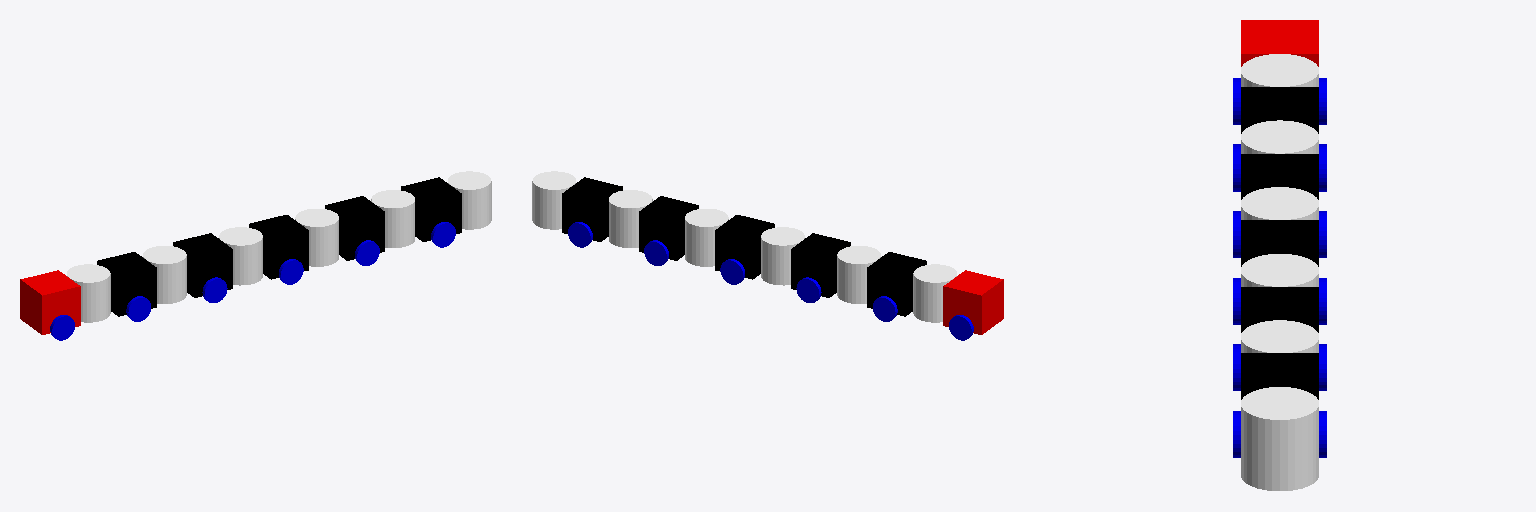
robot.urdf — my_robot:
<?xml version="1.0" ?>
<robot name="my_robot">

    <!-- ===================== SEGMENT 0 (head) ===================== -->
    <link name="servo_link0">
        <visual>
            <geometry><box size="0.1 0.1 0.1"/></geometry>
            <material name="red"><color rgba="1 0 0 1"/></material>
        </visual>
        <collision><geometry><box size="0.1 0.1 0.1"/></geometry></collision>
        <inertial>
            <mass value="0.3"/>
            <origin xyz="0 0 0"/>
            <inertia ixx="0.0005" ixy="0.0" ixz="0.0" iyy="0.0005" iyz="0.0" izz="0.0005"/>
        </inertial>
    </link>

    <joint name="servo_wheel_l0" type="continuous">
        <parent link="servo_link0"/>
        <child link="wheel_l0"/>
        <origin xyz="0 0.055 -0.04" rpy="-1.57 0 0"/>
        <axis xyz="0 0 1"/>
    </joint>
    <link name="wheel_l0">
        <visual>
            <geometry><cylinder radius="0.03" length="0.01"/></geometry>
            <material name="blue"><color rgba="0 0 1 1"/></material>
        </visual>
        <collision><geometry><cylinder radius="0.03" length="0.01"/></geometry></collision>
        <inertial>
            <mass value="0.01"/>
            <origin xyz="0 0 0"/>
            <inertia ixx="2.33e-06" ixy="0.0" ixz="0.0" iyy="2.33e-06" iyz="0.0" izz="4.5e-06"/>
        </inertial>
    </link>

    <joint name="servo_wheel_r0" type="continuous">
        <parent link="servo_link0"/>
        <child link="wheel_r0"/>
        <origin xyz="0 -0.055 -0.04" rpy="1.57 0 0"/>
        <axis xyz="0 0 1"/>
    </joint>
    <link name="wheel_r0">
        <visual>
            <geometry><cylinder radius="0.03" length="0.01"/></geometry>
            <material name="blue"><color rgba="0 0 1 1"/></material>
        </visual>
        <collision><geometry><cylinder radius="0.03" length="0.01"/></geometry></collision>
        <inertial>
            <mass value="0.01"/>
            <origin xyz="0 0 0"/>
            <inertia ixx="2.33e-06" ixy="0.0" ixz="0.0" iyy="2.33e-06" iyz="0.0" izz="4.5e-06"/>
        </inertial>
    </link>

    <!-- Joint 0: S0 → gear0 (revolute) -->
    <joint name="servo_joint0" type="revolute">
        <parent link="servo_link0"/>
        <child link="gear_link0"/>
        <origin xyz="0.1 0 0"/>
        <axis xyz="0 0 1"/>
        <limit lower="-1.57" upper="1.57"/>
    </joint>
    <link name="gear_link0">
        <visual>
            <geometry><cylinder radius="0.05" length="0.1"/></geometry>
            <material name="white"><color rgba="1 1 1 1"/></material>
        </visual>
        <collision><geometry><cylinder radius="0.05" length="0.1"/></geometry></collision>
        <inertial>
            <mass value="0.005"/>
            <origin xyz="0 0 0"/>
            <inertia ixx="7.29e-06" ixy="0.0" ixz="0.0" iyy="7.29e-06" iyz="0.0" izz="6.25e-06"/>
        </inertial>
    </link>

    <!-- Fixed: gear0 → S1 -->
    <joint name="gear_joint0" type="fixed">
        <parent link="gear_link0"/>
        <child link="servo_link1"/>
        <origin xyz="0.1 0 0"/>
    </joint>

    <!-- ===================== SEGMENT 1 ===================== -->
    <link name="servo_link1">
        <visual>
            <geometry><box size="0.1 0.1 0.1"/></geometry>
            <material name="black"><color rgba="0 0 0 1"/></material>
        </visual>
        <collision><geometry><box size="0.1 0.1 0.1"/></geometry></collision>
        <inertial>
            <mass value="0.3"/>
            <origin xyz="0 0 0"/>
            <inertia ixx="0.0005" ixy="0.0" ixz="0.0" iyy="0.0005" iyz="0.0" izz="0.0005"/>
        </inertial>
    </link>

    <joint name="servo_wheel_l1" type="continuous">
        <parent link="servo_link1"/>
        <child link="wheel_l1"/>
        <origin xyz="0 0.055 -0.04" rpy="-1.57 0 0"/>
        <axis xyz="0 0 1"/>
    </joint>
    <link name="wheel_l1">
        <visual>
            <geometry><cylinder radius="0.03" length="0.01"/></geometry>
            <material name="blue"><color rgba="0 0 1 1"/></material>
        </visual>
        <collision><geometry><cylinder radius="0.03" length="0.01"/></geometry></collision>
        <inertial>
            <mass value="0.01"/>
            <origin xyz="0 0 0"/>
            <inertia ixx="2.33e-06" ixy="0.0" ixz="0.0" iyy="2.33e-06" iyz="0.0" izz="4.5e-06"/>
        </inertial>
    </link>

    <joint name="servo_wheel_r1" type="continuous">
        <parent link="servo_link1"/>
        <child link="wheel_r1"/>
        <origin xyz="0 -0.055 -0.04" rpy="1.57 0 0"/>
        <axis xyz="0 0 1"/>
    </joint>
    <link name="wheel_r1">
        <visual>
            <geometry><cylinder radius="0.03" length="0.01"/></geometry>
            <material name="blue"><color rgba="0 0 1 1"/></material>
        </visual>
        <collision><geometry><cylinder radius="0.03" length="0.01"/></geometry></collision>
        <inertial>
            <mass value="0.01"/>
            <origin xyz="0 0 0"/>
            <inertia ixx="2.33e-06" ixy="0.0" ixz="0.0" iyy="2.33e-06" iyz="0.0" izz="4.5e-06"/>
        </inertial>
    </link>

    <!-- Joint 1: S1 → gear1 (revolute) -->
    <joint name="servo_joint1" type="revolute">
        <parent link="servo_link1"/>
        <child link="gear_link1"/>
        <origin xyz="0.1 0 0"/>
        <axis xyz="0 0 1"/>
        <limit lower="-3.14" upper="3.14"/>
    </joint>
    <link name="gear_link1">
        <visual>
            <geometry><cylinder radius="0.05" length="0.1"/></geometry>
            <material name="white"><color rgba="1 1 1 1"/></material>
        </visual>
        <collision><geometry><cylinder radius="0.05" length="0.1"/></geometry></collision>
        <inertial>
            <mass value="0.005"/>
            <origin xyz="0 0 0"/>
            <inertia ixx="7.29e-06" ixy="0.0" ixz="0.0" iyy="7.29e-06" iyz="0.0" izz="6.25e-06"/>
        </inertial>
    </link>

    <!-- Fixed: gear1 → S2 -->
    <joint name="gear_joint1" type="fixed">
        <parent link="gear_link1"/>
        <child link="servo_link2"/>
        <origin xyz="0.1 0 0"/>
    </joint>

    <!-- ===================== SEGMENT 2 ===================== -->
    <link name="servo_link2">
        <visual>
            <geometry><box size="0.1 0.1 0.1"/></geometry>
            <material name="black"><color rgba="0 0 0 1"/></material>
        </visual>
        <collision><geometry><box size="0.1 0.1 0.1"/></geometry></collision>
        <inertial>
            <mass value="0.3"/>
            <origin xyz="0 0 0"/>
            <inertia ixx="0.0005" ixy="0.0" ixz="0.0" iyy="0.0005" iyz="0.0" izz="0.0005"/>
        </inertial>
    </link>

    <joint name="servo_wheel_l2" type="continuous">
        <parent link="servo_link2"/>
        <child link="wheel_l2"/>
        <origin xyz="0 0.055 -0.04" rpy="-1.57 0 0"/>
        <axis xyz="0 0 1"/>
    </joint>
    <link name="wheel_l2">
        <visual>
            <geometry><cylinder radius="0.03" length="0.01"/></geometry>
            <material name="blue"><color rgba="0 0 1 1"/></material>
        </visual>
        <collision><geometry><cylinder radius="0.03" length="0.01"/></geometry></collision>
        <inertial>
            <mass value="0.01"/>
            <origin xyz="0 0 0"/>
            <inertia ixx="2.33e-06" ixy="0.0" ixz="0.0" iyy="2.33e-06" iyz="0.0" izz="4.5e-06"/>
        </inertial>
    </link>

    <joint name="servo_wheel_r2" type="continuous">
        <parent link="servo_link2"/>
        <child link="wheel_r2"/>
        <origin xyz="0 -0.055 -0.04" rpy="1.57 0 0"/>
        <axis xyz="0 0 1"/>
    </joint>
    <link name="wheel_r2">
        <visual>
            <geometry><cylinder radius="0.03" length="0.01"/></geometry>
            <material name="blue"><color rgba="0 0 1 1"/></material>
        </visual>
        <collision><geometry><cylinder radius="0.03" length="0.01"/></geometry></collision>
        <inertial>
            <mass value="0.01"/>
            <origin xyz="0 0 0"/>
            <inertia ixx="2.33e-06" ixy="0.0" ixz="0.0" iyy="2.33e-06" iyz="0.0" izz="4.5e-06"/>
        </inertial>
    </link>

    <!-- Joint 2: S2 → gear2 (revolute) -->
    <joint name="servo_joint2" type="revolute">
        <parent link="servo_link2"/>
        <child link="gear_link2"/>
        <origin xyz="0.1 0 0"/>
        <axis xyz="0 0 1"/>
        <limit lower="-3.14" upper="3.14"/>
    </joint>
    <link name="gear_link2">
        <visual>
            <geometry><cylinder radius="0.05" length="0.1"/></geometry>
            <material name="white"><color rgba="1 1 1 1"/></material>
        </visual>
        <collision><geometry><cylinder radius="0.05" length="0.1"/></geometry></collision>
        <inertial>
            <mass value="0.005"/>
            <origin xyz="0 0 0"/>
            <inertia ixx="7.29e-06" ixy="0.0" ixz="0.0" iyy="7.29e-06" iyz="0.0" izz="6.25e-06"/>
        </inertial>
    </link>

    <!-- Fixed: gear2 → S3 -->
    <joint name="gear_joint2" type="fixed">
        <parent link="gear_link2"/>
        <child link="servo_link3"/>
        <origin xyz="0.1 0 0"/>
    </joint>

    <!-- ===================== SEGMENT 3 ===================== -->
    <link name="servo_link3">
        <visual>
            <geometry><box size="0.1 0.1 0.1"/></geometry>
            <material name="black"><color rgba="0 0 0 1"/></material>
        </visual>
        <collision><geometry><box size="0.1 0.1 0.1"/></geometry></collision>
        <inertial>
            <mass value="0.3"/>
            <origin xyz="0 0 0"/>
            <inertia ixx="0.0005" ixy="0.0" ixz="0.0" iyy="0.0005" iyz="0.0" izz="0.0005"/>
        </inertial>
    </link>

    <joint name="servo_wheel_l3" type="continuous">
        <parent link="servo_link3"/>
        <child link="wheel_l3"/>
        <origin xyz="0 0.055 -0.04" rpy="-1.57 0 0"/>
        <axis xyz="0 0 1"/>
    </joint>
    <link name="wheel_l3">
        <visual>
            <geometry><cylinder radius="0.03" length="0.01"/></geometry>
            <material name="blue"><color rgba="0 0 1 1"/></material>
        </visual>
        <collision><geometry><cylinder radius="0.03" length="0.01"/></geometry></collision>
        <inertial>
            <mass value="0.01"/>
            <origin xyz="0 0 0"/>
            <inertia ixx="2.33e-06" ixy="0.0" ixz="0.0" iyy="2.33e-06" iyz="0.0" izz="4.5e-06"/>
        </inertial>
    </link>

    <joint name="servo_wheel_r3" type="continuous">
        <parent link="servo_link3"/>
        <child link="wheel_r3"/>
        <origin xyz="0 -0.055 -0.04" rpy="1.57 0 0"/>
        <axis xyz="0 0 1"/>
    </joint>
    <link name="wheel_r3">
        <visual>
            <geometry><cylinder radius="0.03" length="0.01"/></geometry>
            <material name="blue"><color rgba="0 0 1 1"/></material>
        </visual>
        <collision><geometry><cylinder radius="0.03" length="0.01"/></geometry></collision>
        <inertial>
            <mass value="0.01"/>
            <origin xyz="0 0 0"/>
            <inertia ixx="2.33e-06" ixy="0.0" ixz="0.0" iyy="2.33e-06" iyz="0.0" izz="4.5e-06"/>
        </inertial>
    </link>

    <!-- Joint 3: S3 → gear3 (revolute) -->
    <joint name="servo_joint3" type="revolute">
        <parent link="servo_link3"/>
        <child link="gear_link3"/>
        <origin xyz="0.1 0 0"/>
        <axis xyz="0 0 1"/>
        <limit lower="-3.14" upper="3.14"/>
    </joint>
    <link name="gear_link3">
        <visual>
            <geometry><cylinder radius="0.05" length="0.1"/></geometry>
            <material name="white"><color rgba="1 1 1 1"/></material>
        </visual>
        <collision><geometry><cylinder radius="0.05" length="0.1"/></geometry></collision>
        <inertial>
            <mass value="0.005"/>
            <origin xyz="0 0 0"/>
            <inertia ixx="7.29e-06" ixy="0.0" ixz="0.0" iyy="7.29e-06" iyz="0.0" izz="6.25e-06"/>
        </inertial>
    </link>

    <!-- Fixed: gear3 → S4 -->
    <joint name="gear_joint3" type="fixed">
        <parent link="gear_link3"/>
        <child link="servo_link4"/>
        <origin xyz="0.1 0 0"/>
    </joint>

    <!-- ===================== SEGMENT 4 ===================== -->
    <link name="servo_link4">
        <visual>
            <geometry><box size="0.1 0.1 0.1"/></geometry>
            <material name="black"><color rgba="0 0 0 1"/></material>
        </visual>
        <collision><geometry><box size="0.1 0.1 0.1"/></geometry></collision>
        <inertial>
            <mass value="0.3"/>
            <origin xyz="0 0 0"/>
            <inertia ixx="0.0005" ixy="0.0" ixz="0.0" iyy="0.0005" iyz="0.0" izz="0.0005"/>
        </inertial>
    </link>

    <joint name="servo_wheel_l4" type="continuous">
        <parent link="servo_link4"/>
        <child link="wheel_l4"/>
        <origin xyz="0 0.055 -0.04" rpy="-1.57 0 0"/>
        <axis xyz="0 0 1"/>
    </joint>
    <link name="wheel_l4">
        <visual>
            <geometry><cylinder radius="0.03" length="0.01"/></geometry>
            <material name="blue"><color rgba="0 0 1 1"/></material>
        </visual>
        <collision><geometry><cylinder radius="0.03" length="0.01"/></geometry></collision>
        <inertial>
            <mass value="0.01"/>
            <origin xyz="0 0 0"/>
            <inertia ixx="2.33e-06" ixy="0.0" ixz="0.0" iyy="2.33e-06" iyz="0.0" izz="4.5e-06"/>
        </inertial>
    </link>

    <joint name="servo_wheel_r4" type="continuous">
        <parent link="servo_link4"/>
        <child link="wheel_r4"/>
        <origin xyz="0 -0.055 -0.04" rpy="1.57 0 0"/>
        <axis xyz="0 0 1"/>
    </joint>
    <link name="wheel_r4">
        <visual>
            <geometry><cylinder radius="0.03" length="0.01"/></geometry>
            <material name="blue"><color rgba="0 0 1 1"/></material>
        </visual>
        <collision><geometry><cylinder radius="0.03" length="0.01"/></geometry></collision>
        <inertial>
            <mass value="0.01"/>
            <origin xyz="0 0 0"/>
            <inertia ixx="2.33e-06" ixy="0.0" ixz="0.0" iyy="2.33e-06" iyz="0.0" izz="4.5e-06"/>
        </inertial>
    </link>

    <!-- Joint 4: S4 → gear4 (revolute) -->
    <joint name="servo_joint4" type="revolute">
        <parent link="servo_link4"/>
        <child link="gear_link4"/>
        <origin xyz="0.1 0 0"/>
        <axis xyz="0 0 1"/>
        <limit lower="-3.14" upper="3.14"/>
    </joint>
    <link name="gear_link4">
        <visual>
            <geometry><cylinder radius="0.05" length="0.1"/></geometry>
            <material name="white"><color rgba="1 1 1 1"/></material>
        </visual>
        <collision><geometry><cylinder radius="0.05" length="0.1"/></geometry></collision>
        <inertial>
            <mass value="0.005"/>
            <origin xyz="0 0 0"/>
            <inertia ixx="7.29e-06" ixy="0.0" ixz="0.0" iyy="7.29e-06" iyz="0.0" izz="6.25e-06"/>
        </inertial>
    </link>

    <!-- Fixed: gear4 → S5 -->
    <joint name="gear_joint4" type="fixed">
        <parent link="gear_link4"/>
        <child link="servo_link5"/>
        <origin xyz="0.1 0 0"/>
    </joint>

    <!-- ===================== SEGMENT 5 (tail) ===================== -->
    <link name="servo_link5">
        <visual>
            <geometry><box size="0.1 0.1 0.1"/></geometry>
            <material name="black"><color rgba="0 0 0 1"/></material>
        </visual>
        <collision><geometry><box size="0.1 0.1 0.1"/></geometry></collision>
        <inertial>
            <mass value="0.3"/>
            <origin xyz="0 0 0"/>
            <inertia ixx="0.0005" ixy="0.0" ixz="0.0" iyy="0.0005" iyz="0.0" izz="0.0005"/>
        </inertial>
    </link>

    <joint name="servo_wheel_l5" type="continuous">
        <parent link="servo_link5"/>
        <child link="wheel_l5"/>
        <origin xyz="0 0.055 -0.04" rpy="-1.57 0 0"/>
        <axis xyz="0 0 1"/>
    </joint>
    <link name="wheel_l5">
        <visual>
            <geometry><cylinder radius="0.03" length="0.01"/></geometry>
            <material name="blue"><color rgba="0 0 1 1"/></material>
        </visual>
        <collision><geometry><cylinder radius="0.03" length="0.01"/></geometry></collision>
        <inertial>
            <mass value="0.01"/>
            <origin xyz="0 0 0"/>
            <inertia ixx="2.33e-06" ixy="0.0" ixz="0.0" iyy="2.33e-06" iyz="0.0" izz="4.5e-06"/>
        </inertial>
    </link>

    <joint name="servo_wheel_r5" type="continuous">
        <parent link="servo_link5"/>
        <child link="wheel_r5"/>
        <origin xyz="0 -0.055 -0.04" rpy="1.57 0 0"/>
        <axis xyz="0 0 1"/>
    </joint>
    <link name="wheel_r5">
        <visual>
            <geometry><cylinder radius="0.03" length="0.01"/></geometry>
            <material name="blue"><color rgba="0 0 1 1"/></material>
        </visual>
        <collision><geometry><cylinder radius="0.03" length="0.01"/></geometry></collision>
        <inertial>
            <mass value="0.01"/>
            <origin xyz="0 0 0"/>
            <inertia ixx="2.33e-06" ixy="0.0" ixz="0.0" iyy="2.33e-06" iyz="0.0" izz="4.5e-06"/>
        </inertial>
    </link>

    <!-- Joint 5: S5 → gear5 (revolute) -->
    <joint name="servo_joint5" type="revolute">
        <parent link="servo_link5"/>
        <child link="gear_link5"/>
        <origin xyz="0.1 0 0"/>
        <axis xyz="0 0 1"/>
        <limit lower="-3.14" upper="3.14"/>
    </joint>
    <link name="gear_link5">
        <visual>
            <geometry><cylinder radius="0.05" length="0.1"/></geometry>
            <material name="white"><color rgba="1 1 1 1"/></material>
        </visual>
        <collision><geometry><cylinder radius="0.05" length="0.1"/></geometry></collision>
        <inertial>
            <mass value="0.005"/>
            <origin xyz="0 0 0"/>
            <inertia ixx="7.29e-06" ixy="0.0" ixz="0.0" iyy="7.29e-06" iyz="0.0" izz="6.25e-06"/>
        </inertial>
    </link>

</robot>

--- Render facts (derived) ---
The picture shows the robot from 3 angles, left to right: view 1: azimuth 30°, elevation 25°; view 2: azimuth 150°, elevation 25°; view 3: azimuth 270°, elevation 25°; orthographic projection.
Robot: my_robot — 24 links, 23 joints (6 revolute, 12 continuous, 5 fixed); root link servo_link0; default pose: all joints at 0.
Visible links, largest first — view 1: servo_link0, servo_link5, servo_link1, servo_link2, servo_link3, servo_link4, gear_link0, gear_link5, gear_link2, gear_link1, gear_link4, gear_link3; view 2: servo_link0, servo_link5, servo_link1, servo_link2, servo_link3, servo_link4, gear_link0, gear_link5, gear_link2, gear_link1, gear_link4, gear_link3; view 3: gear_link5, servo_link5, servo_link0, servo_link3, servo_link1, servo_link4, servo_link2, gear_link1, gear_link3, gear_link0, gear_link2, gear_link4.
Link boxes in pixels (x1=…): servo_link0: x1=20, y1=270, x2=80, y2=334; servo_link5: x1=401, y1=177, x2=461, y2=241; servo_link1: x1=97, y1=252, x2=156, y2=316; servo_link2: x1=173, y1=233, x2=232, y2=297; servo_link3: x1=249, y1=215, x2=308, y2=279; servo_link4: x1=325, y1=196, x2=384, y2=260; gear_link0: x1=67, y1=264, x2=110, y2=322; gear_link5: x1=448, y1=171, x2=491, y2=229; gear_link2: x1=219, y1=227, x2=262, y2=285; gear_link1: x1=143, y1=246, x2=186, y2=303; gear_link4: x1=371, y1=190, x2=414, y2=247; gear_link3: x1=295, y1=209, x2=338, y2=266; servo_link0: x1=943, y1=270, x2=1003, y2=334; servo_link5: x1=562, y1=177, x2=622, y2=241; servo_link1: x1=867, y1=252, x2=926, y2=316; servo_link2: x1=791, y1=233, x2=850, y2=297; servo_link3: x1=715, y1=215, x2=774, y2=279; servo_link4: x1=639, y1=196, x2=698, y2=260; gear_link0: x1=913, y1=264, x2=956, y2=322; gear_link5: x1=532, y1=171, x2=575, y2=229; gear_link2: x1=761, y1=227, x2=804, y2=285; gear_link1: x1=837, y1=246, x2=880, y2=303; gear_link4: x1=609, y1=190, x2=652, y2=247; gear_link3: x1=685, y1=209, x2=728, y2=266; gear_link5: x1=1241, y1=387, x2=1318, y2=490; servo_link5: x1=1241, y1=353, x2=1318, y2=399; servo_link0: x1=1241, y1=20, x2=1318, y2=66; servo_link3: x1=1241, y1=220, x2=1318, y2=266; servo_link1: x1=1241, y1=87, x2=1318, y2=133; servo_link4: x1=1241, y1=287, x2=1318, y2=332; servo_link2: x1=1241, y1=154, x2=1318, y2=199; gear_link1: x1=1241, y1=120, x2=1318, y2=153; gear_link3: x1=1241, y1=254, x2=1318, y2=286; gear_link0: x1=1241, y1=54, x2=1318, y2=86; gear_link2: x1=1241, y1=187, x2=1318, y2=219; gear_link4: x1=1241, y1=320, x2=1318, y2=352.
Size in the robot's own frame: 1.2 by 0.12 by 0.12 metres.
Geometry: primitives only (box / cylinder / sphere), no mesh files.
